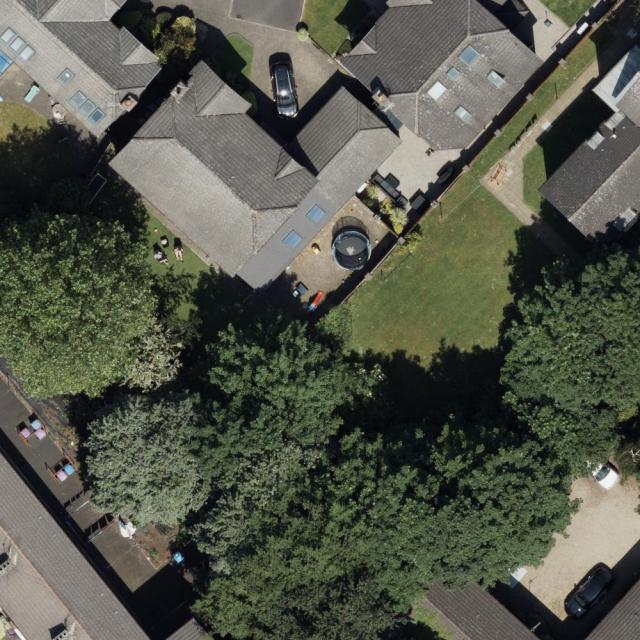roof: (107, 58, 404, 295), (339, 0, 556, 154), (1, 456, 152, 640), (0, 0, 161, 139), (537, 38, 640, 252), (408, 557, 541, 640), (587, 576, 640, 640), (164, 617, 215, 640)
skylight: (425, 78, 451, 104), (305, 201, 329, 227), (485, 68, 509, 92), (457, 43, 481, 66), (281, 229, 304, 251), (451, 102, 471, 125), (56, 66, 76, 88), (69, 89, 88, 109), (17, 44, 36, 62), (78, 98, 96, 117), (7, 36, 27, 53), (0, 27, 17, 45), (88, 108, 106, 125), (445, 65, 461, 82)
